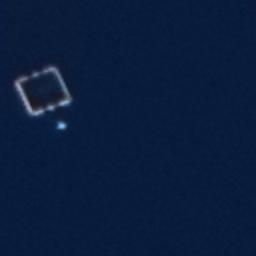square_solid: (10, 61, 79, 123)
